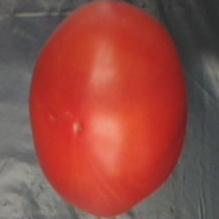unripe: (26, 1, 191, 219)
